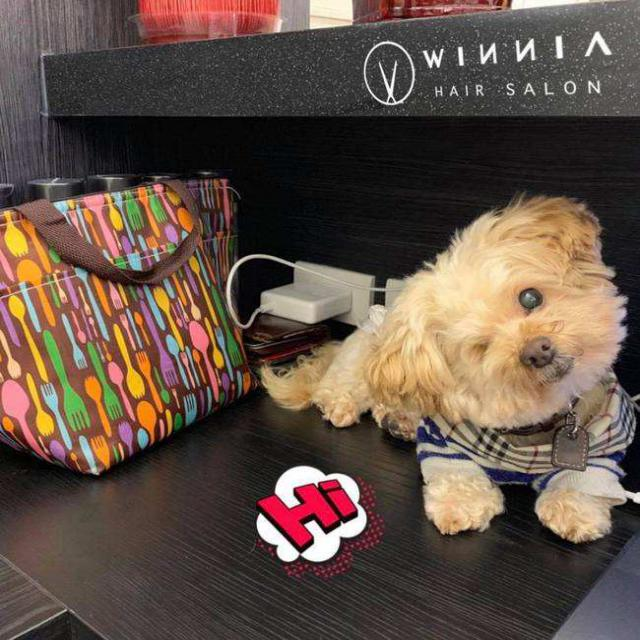eye: (514, 281, 550, 316)
